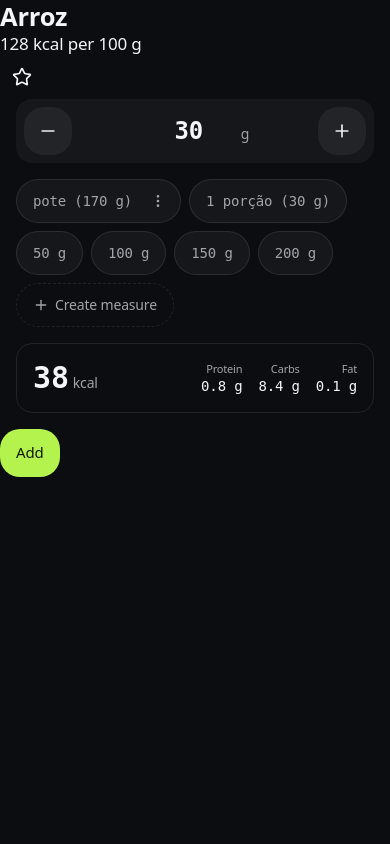
it: PortionSheet household measures › multiplies a personal measure and the label serving
The width and height of the screenshot is (390, 844).
Click the button "pote (170 g)" at (77, 201), box [17,180,136,222]
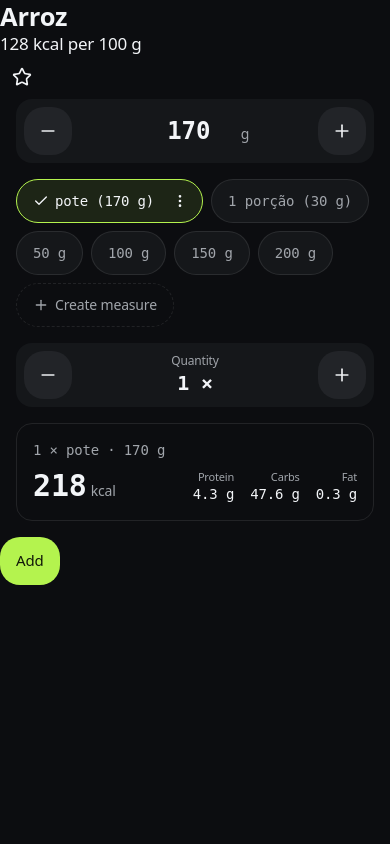
Click the button named "Half a measure more" at (342, 375), box [318,351,366,399]
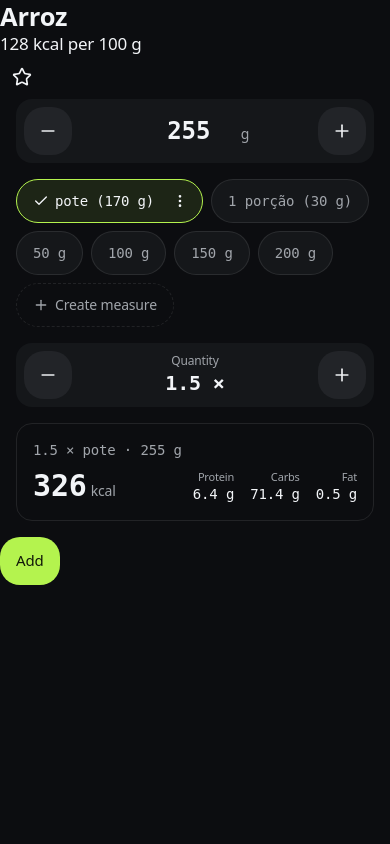
Click the button named "Half a measure more" at (342, 375), box [318,351,366,399]
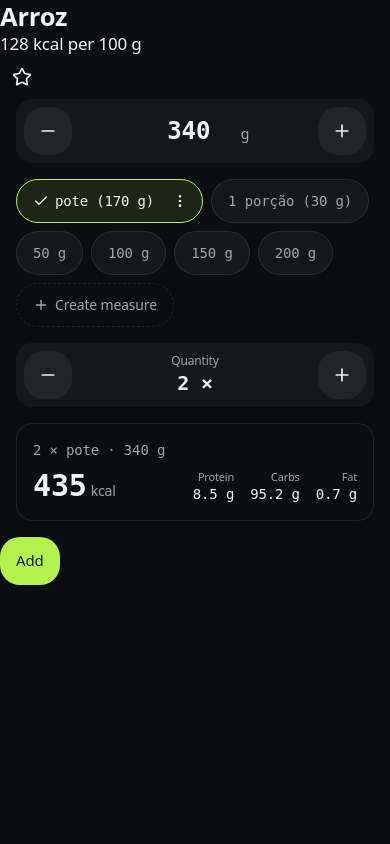
Result: the text with test id "portion-measure" reads "2 × pote · 340 g" at [33,442,165,458]
Click the button "1 porção (30 g)" at (290, 201), box [211,179,369,223]
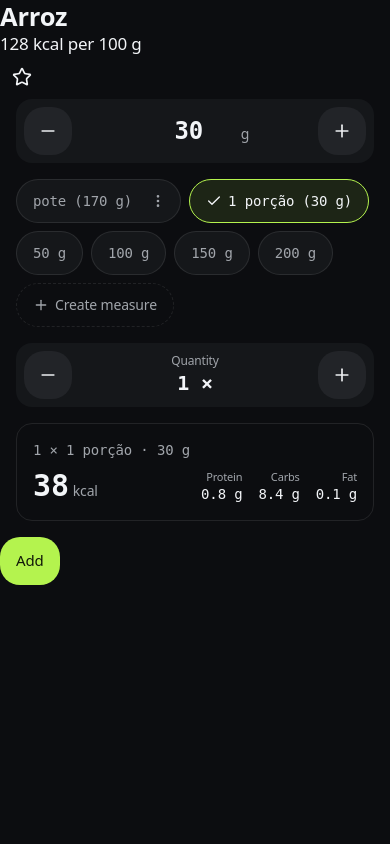
Click the button named "Half a measure more" at (342, 375), box [318,351,366,399]
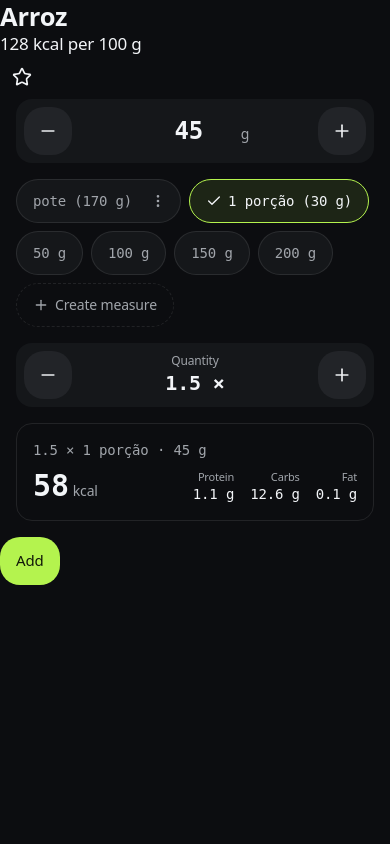
Result: the text with test id "portion-measure" reads "1.5 × 1 porção · 45 g" at [33,442,206,458]
